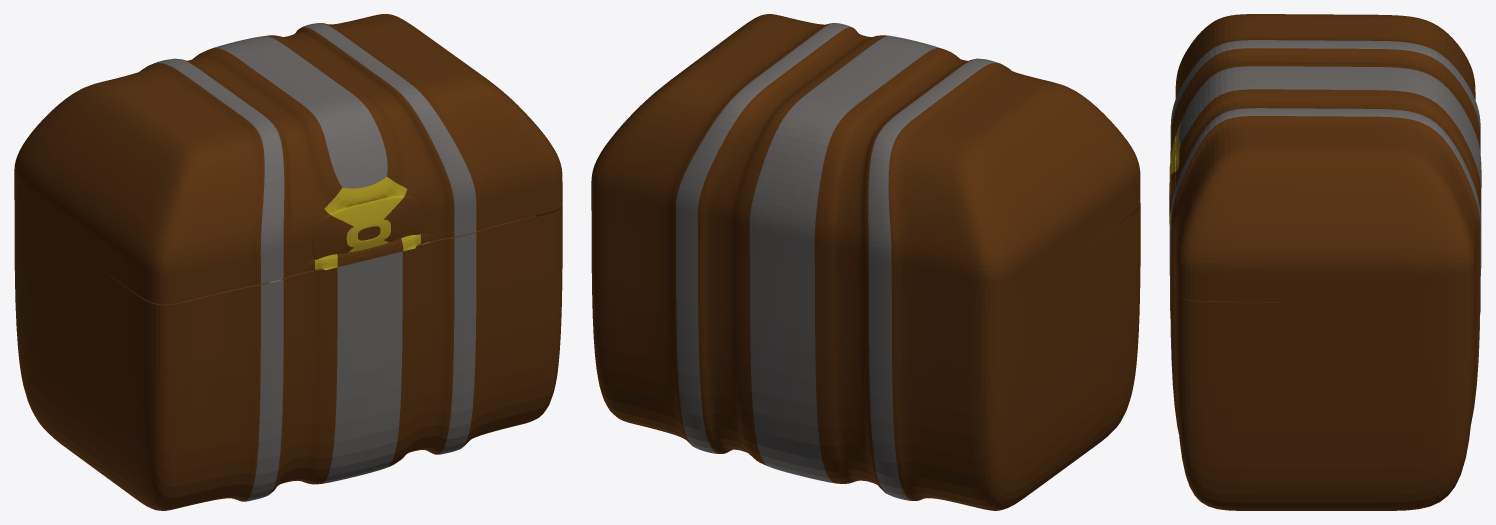
File: TreasureChest.fbx
The picture shows the model from 3 angles, left to right: view 1: azimuth 30°, elevation 25°; view 2: azimuth 150°, elevation 25°; view 3: azimuth 270°, elevation 25°; orthographic projection. The views are drawn at different scales.
Parts seen in each view (by area): view 1: cuepro, tapa; view 2: cuepro, tapa; view 3: tapa, cuepro.
Part boxes in pixels (left/top/right/bottom): cuepro: left=14, top=201, right=562, bottom=510; tapa: left=14, top=14, right=562, bottom=304; cuepro: left=591, top=203, right=1140, bottom=510; tapa: left=591, top=14, right=1140, bottom=310; tapa: left=1169, top=14, right=1481, bottom=302; cuepro: left=1169, top=157, right=1481, bottom=510.
Bounding box in the file's own units: 314 × 261 × 208.
